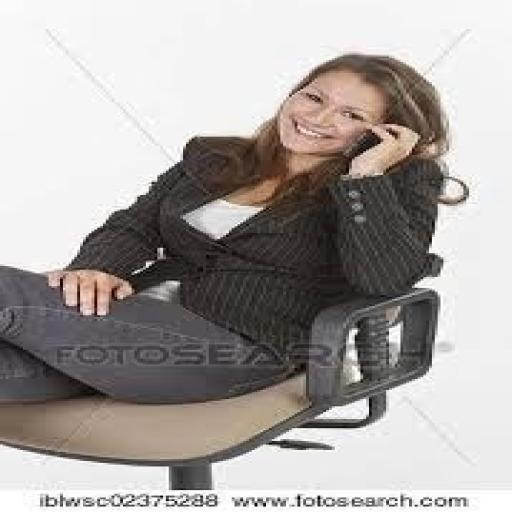calling: (0, 51, 461, 406)
